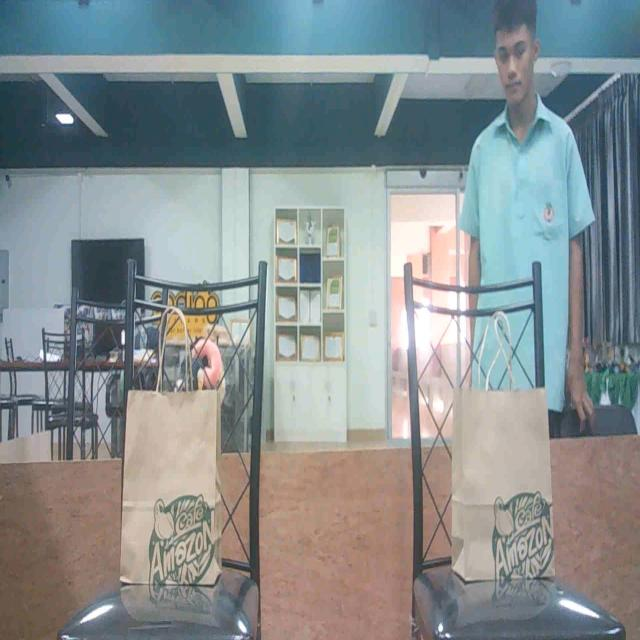bag: (452, 384, 554, 585), (132, 390, 218, 587)
